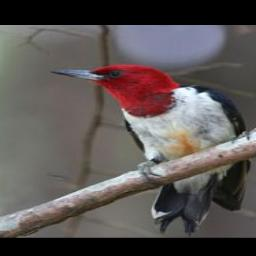Woodpecker: (48, 63, 251, 236)
